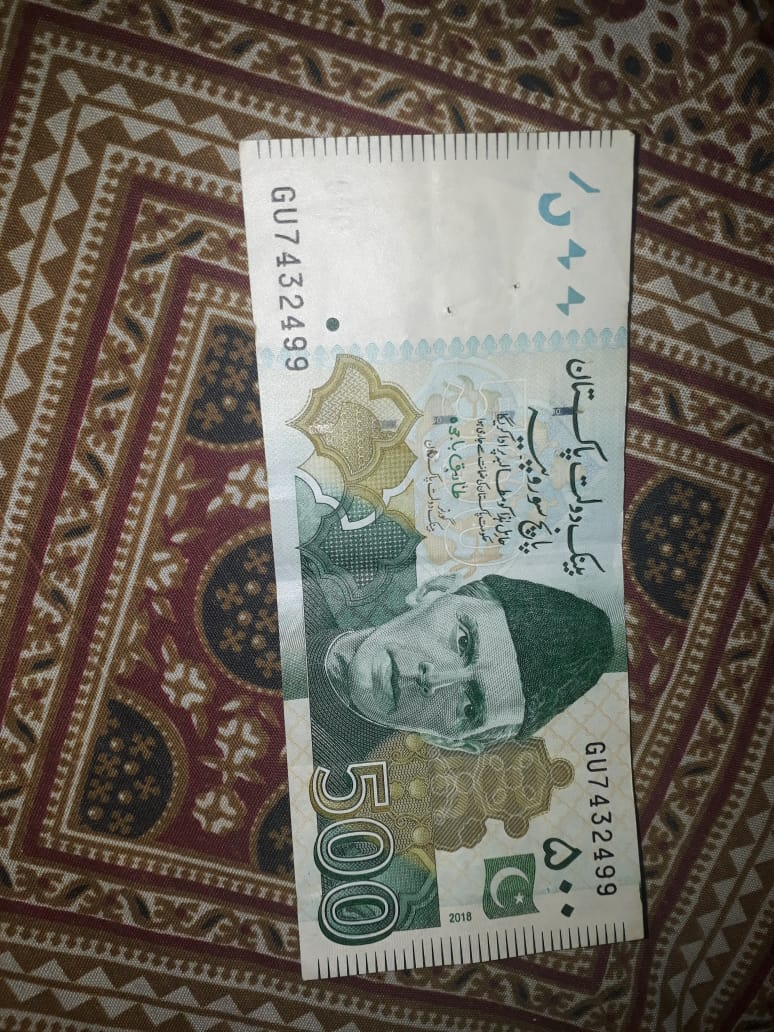500 rupee: (196, 114, 683, 995)
